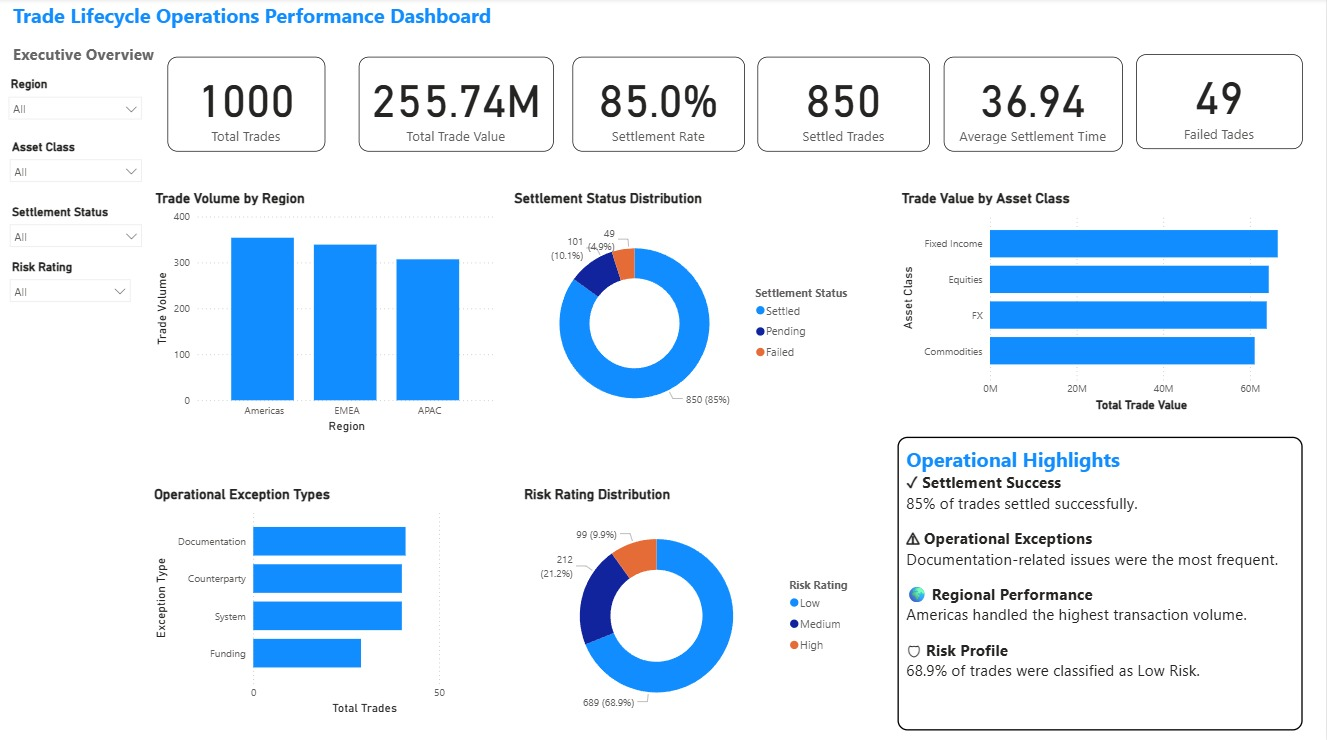

This screenshot's page, from the dashboard's own definition file:
{"tool":"powerbi","page":{"name":"Executive Overview","canvas":[1600,900],"ordinal":0},"visuals":[{"type":"textbox","box":[10,0,1153.8,280],"z":0},{"type":"card","fields":{"Values":["TradeOperations.Total Trades"]},"box":[202.1,70.9,190,114.6],"z":1000},{"type":"card","fields":{"Values":["TradeOperations.Total Trade Value"]},"box":[432.8,70.9,235.3,114.6],"z":2000},{"type":"card","fields":{"Values":["TradeOperations.Settlement Rate"]},"box":[690.7,70.9,208.1,114.6],"z":3000},{"type":"card","fields":{"Values":["TradeOperations.Failed Tades"]},"box":[1370.8,67.9,200.6,114.6],"z":4000},{"type":"card","fields":{"Values":["TradeOperations.Average Settlement Time"]},"box":[1138.6,70.9,215.7,114.6],"z":5000},{"type":"card","fields":{"Values":["TradeOperations.Settled Trades"]},"box":[913.9,70.9,208.1,114.6],"z":6000},{"type":"clusteredColumnChart","fields":{"Category":["TradeOperations.Region"],"Y":["TradeOperations.Total Trades"]},"box":[182.5,230.7,420.7,298.6],"z":7000},{"type":"donutChart","title":"Settlement Status Distribution","fields":{"Category":["TradeOperations.Settlement Status"],"Y":["TradeOperations.Trades Count"]},"box":[615.3,230.7,429.8,304.6],"z":8000},{"type":"clusteredBarChart","title":"Trade Value by Asset Class","fields":{"Category":["TradeOperations.Asset Class"],"Y":["TradeOperations.Total Trade Value"]},"box":[1082.8,230.7,494.6,273],"z":9000},{"type":"slicer","fields":{"Values":["TradeOperations.Asset Class"]},"box":[1.5,165.9,179.5,78.4],"z":10000},{"type":"barChart","title":"Operational Exception Types","fields":{"Category":["TradeOperations.Exception Type"],"Y":["TradeOperations.Total Trades"]},"box":[181,588.1,405.7,282],"z":11000},{"type":"donutChart","title":"Risk Rating Distribution","fields":{"Category":["TradeOperations.Risk Rating"],"Y":["TradeOperations.Total Trades"]},"box":[627.3,588.1,417.7,295.6],"z":12000},{"type":"slicer","fields":{"Values":["TradeOperations.Region"]},"box":[0,90.5,181,75.4],"z":13000},{"type":"slicer","fields":{"Values":["TradeOperations.Settlement Status"]},"box":[1.2,244.9,179.8,66.4],"z":14000},{"type":"slicer","fields":{"Values":["TradeOperations.Risk Rating"]},"box":[1.5,310.7,165.9,69.4],"z":15000},{"type":"textbox","box":[1082.8,529.3,488.6,354.4],"z":16000}]}

Visuals, with their boxes in screenshot pixels (x1, y1, x2, y2), scaled from the page's 1600x900 canvas onto the 1327x740 screenshot:
textbox: BBox(8, 0, 965, 230)
card - TradeOperations.Total Trades: BBox(168, 58, 325, 153)
card - TradeOperations.Total Trade Value: BBox(359, 58, 554, 153)
card - TradeOperations.Settlement Rate: BBox(573, 58, 745, 153)
card - TradeOperations.Failed Tades: BBox(1137, 56, 1303, 150)
card - TradeOperations.Average Settlement Time: BBox(944, 58, 1123, 153)
card - TradeOperations.Settled Trades: BBox(758, 58, 931, 153)
clusteredColumnChart - TradeOperations.Region x TradeOperations.Total Trades: BBox(151, 190, 500, 435)
"Settlement Status Distribution" donutChart: BBox(510, 190, 867, 440)
"Trade Value by Asset Class" clusteredBarChart: BBox(898, 190, 1308, 414)
slicer - TradeOperations.Asset Class: BBox(1, 136, 150, 201)
"Operational Exception Types" barChart: BBox(150, 484, 487, 715)
"Risk Rating Distribution" donutChart: BBox(520, 484, 867, 727)
slicer - TradeOperations.Region: BBox(0, 74, 150, 136)
slicer - TradeOperations.Settlement Status: BBox(1, 201, 150, 256)
slicer - TradeOperations.Risk Rating: BBox(1, 255, 139, 313)
textbox: BBox(898, 435, 1303, 727)
